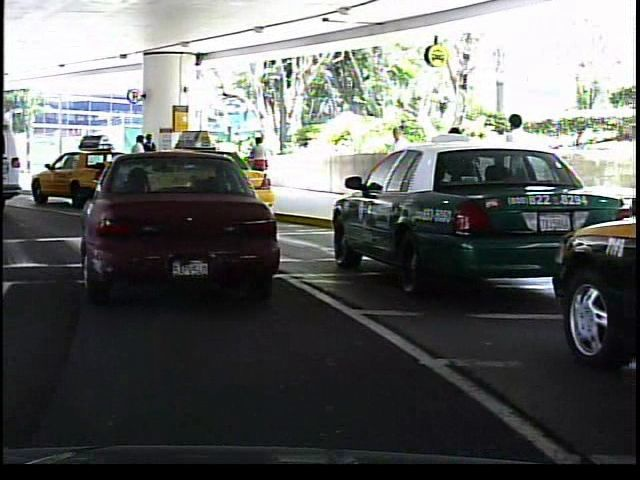person: (496, 108, 542, 230), (433, 115, 483, 226), (381, 119, 415, 204), (248, 134, 271, 192), (128, 133, 148, 189), (142, 129, 160, 187)
